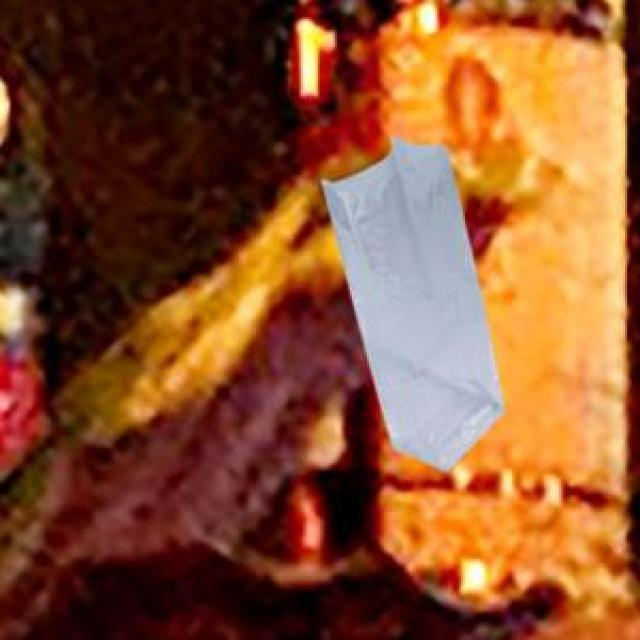waste: (322, 138, 502, 469)
